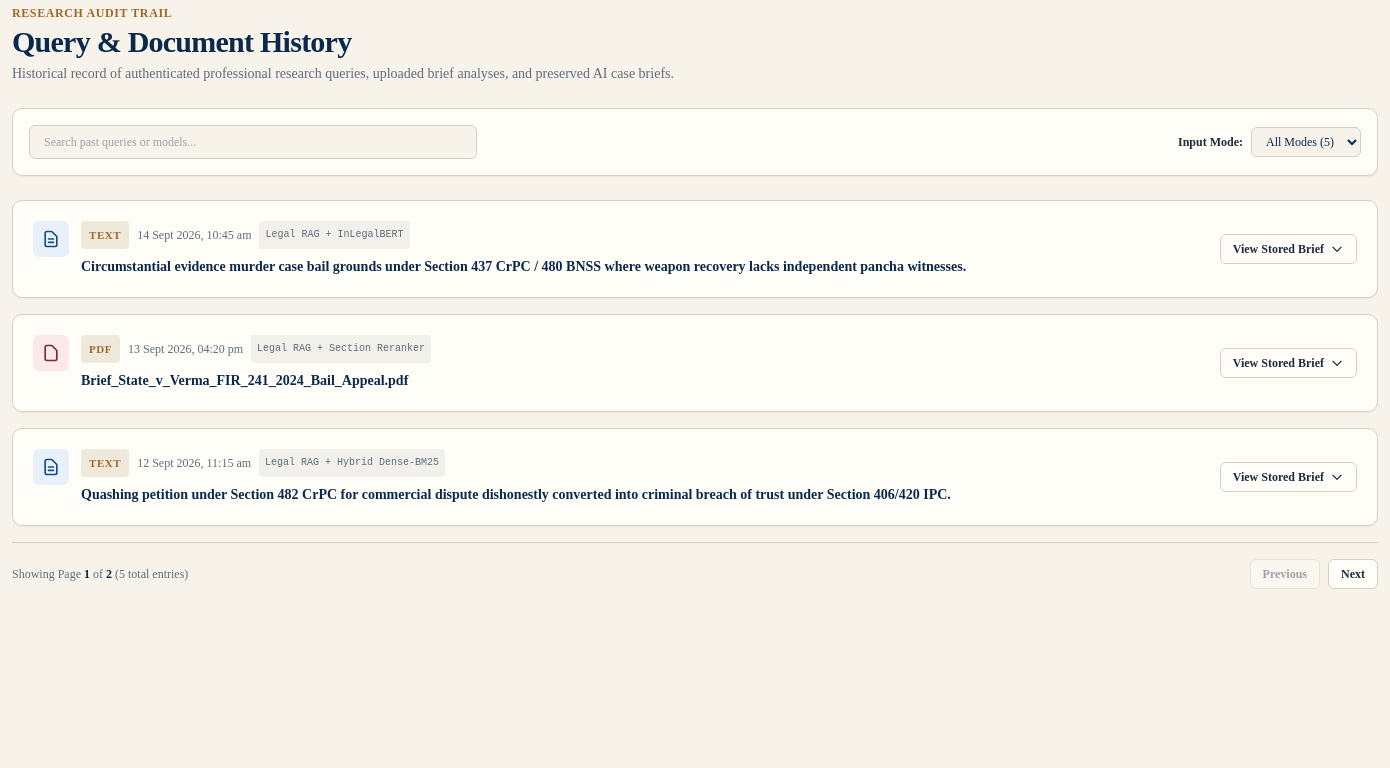
Scenario: Professional Query History Page › supports client-side pagination across pages
Expected: the element with test id "history-list" is shown, 12,200 -> 1378,589
Expected: the text "Showing Page 1 of 2 (5 total entries)" is shown, 12,566 -> 188,582
Click the button "Next".
click(1353, 574)  # box 1328,559 -> 1378,589
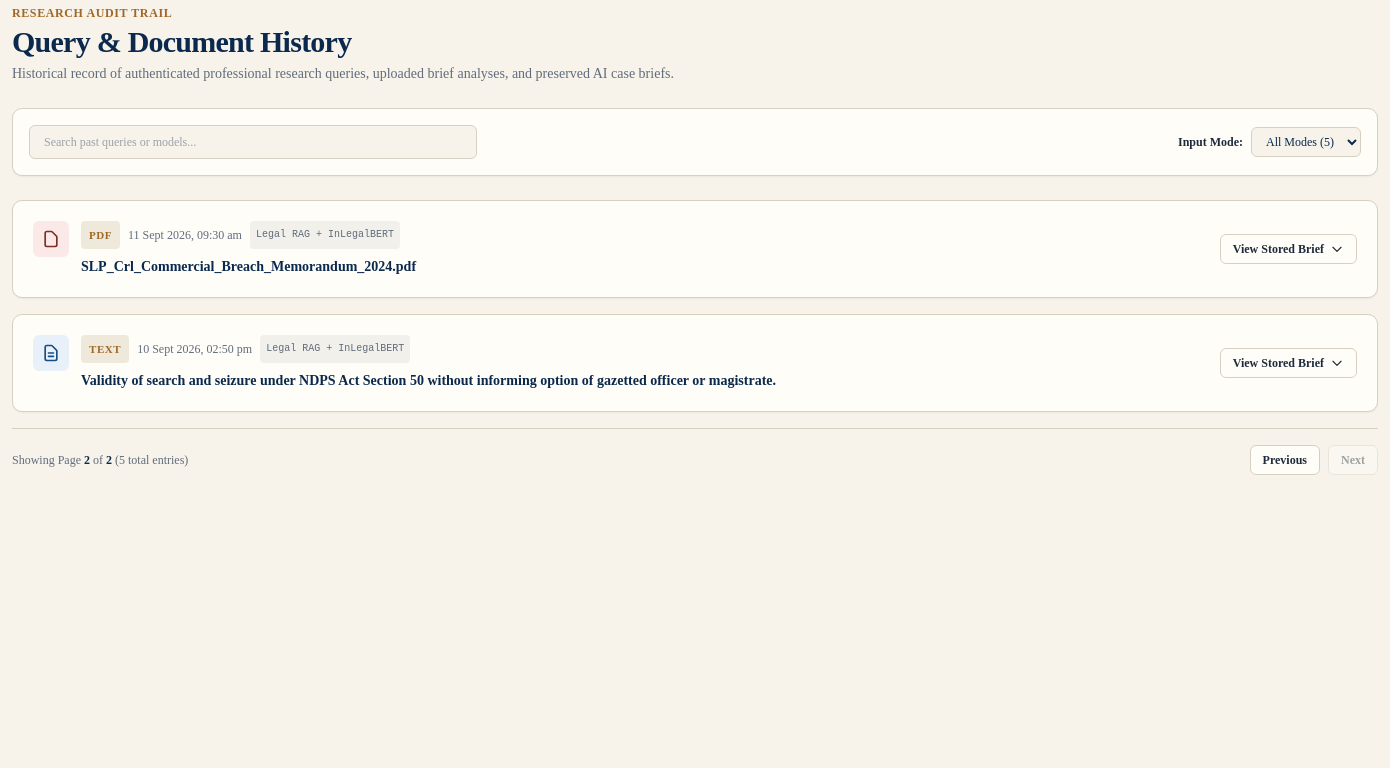
Result: the text "Showing Page 2 of 2 (5 total entries)" is shown at 12,452 -> 188,468
